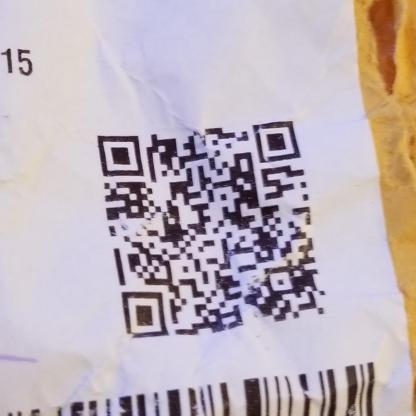barcode: (3, 356, 382, 416)
qr: (93, 119, 330, 338)
